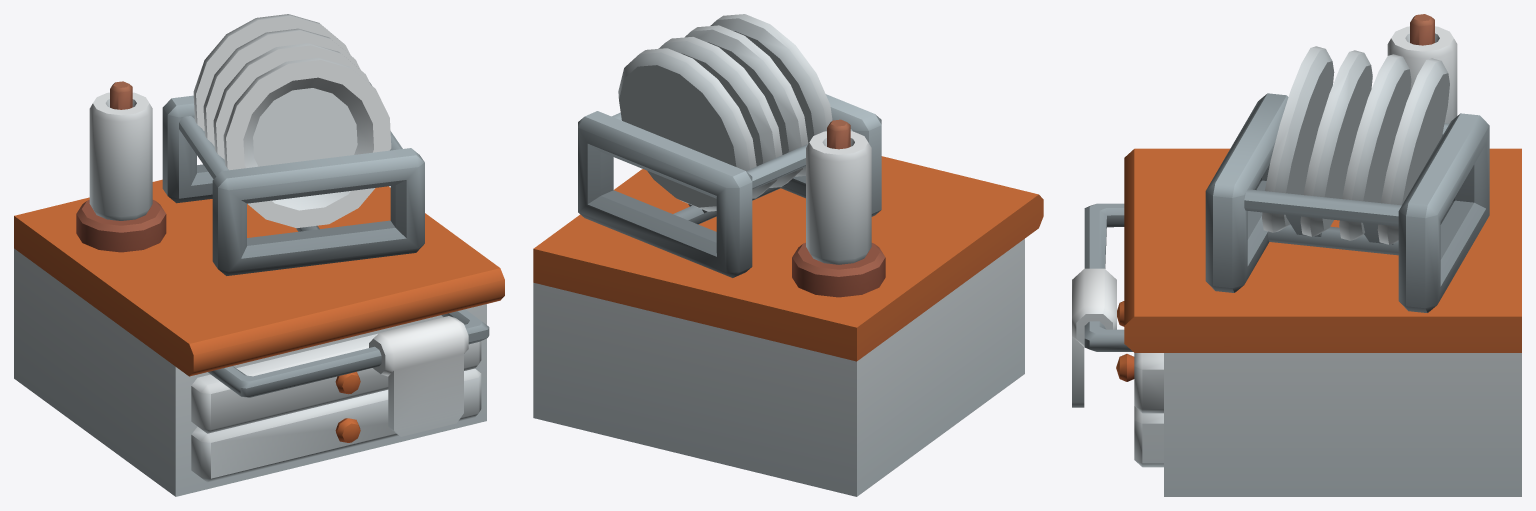
File: counter.glb
3 renders of one model, left to right at view 1: azimuth 30°, elevation 25°; view 2: azimuth 150°, elevation 25°; view 3: azimuth 270°, elevation 25°, orthographic. The views are drawn at different scales.
Visible parts, largest first — view 1: kitchencounter_straight_A_decorated; view 2: kitchencounter_straight_A_decorated; view 3: kitchencounter_straight_A_decorated.
Part boxes in pixels (left/top/right/bottom): kitchencounter_straight_A_decorated: left=14, top=14, right=504, bottom=496; kitchencounter_straight_A_decorated: left=533, top=14, right=1043, bottom=496; kitchencounter_straight_A_decorated: left=1072, top=14, right=1521, bottom=496.
Bounding box in the file's own units: 2.01 × 2.1 × 2.26.
1 material, 1 textured.
